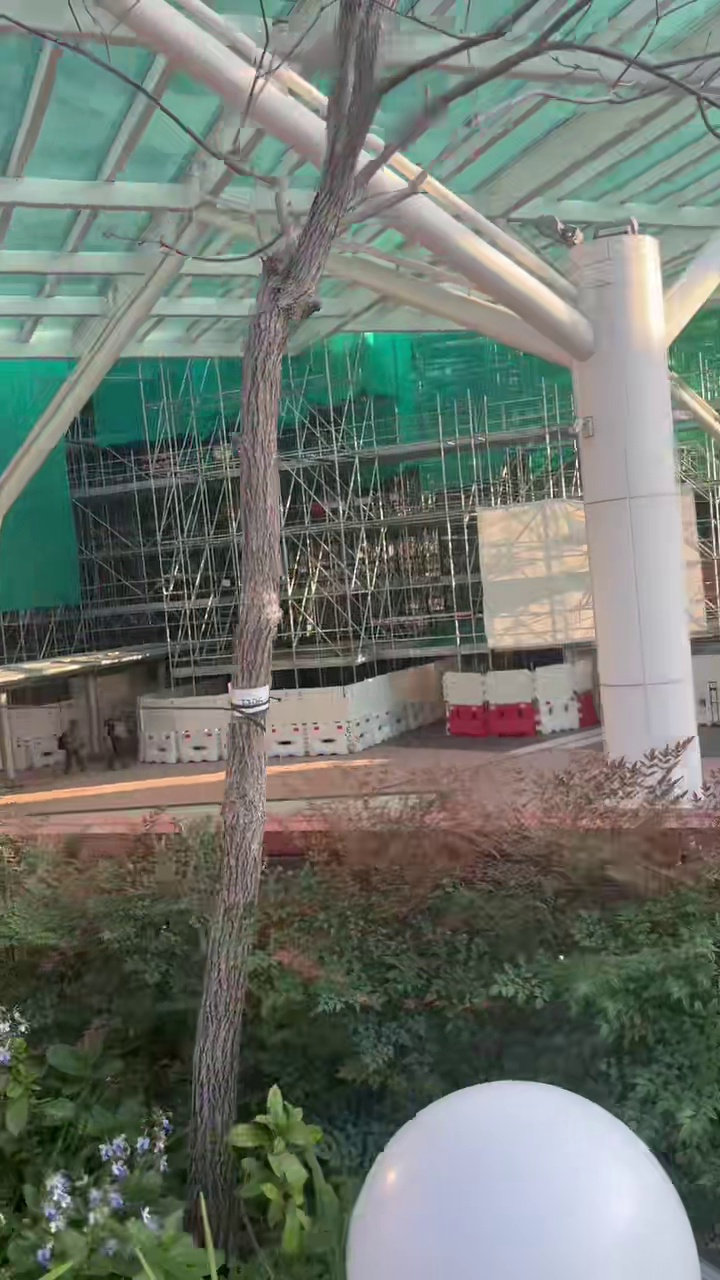Tabebuia chrysantha: (189, 0, 619, 1252)
